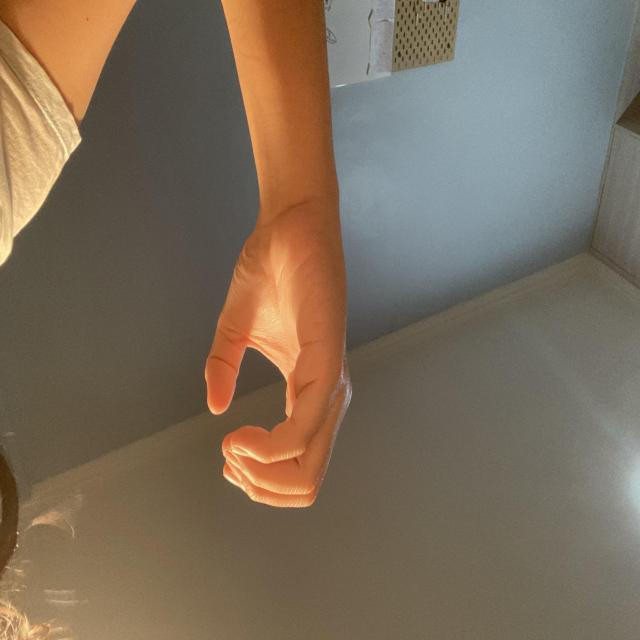C: (288, 132, 437, 434)
